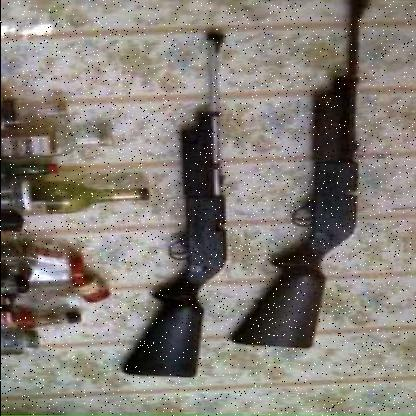rifle: (219, 0, 404, 354), (74, 25, 246, 391)
